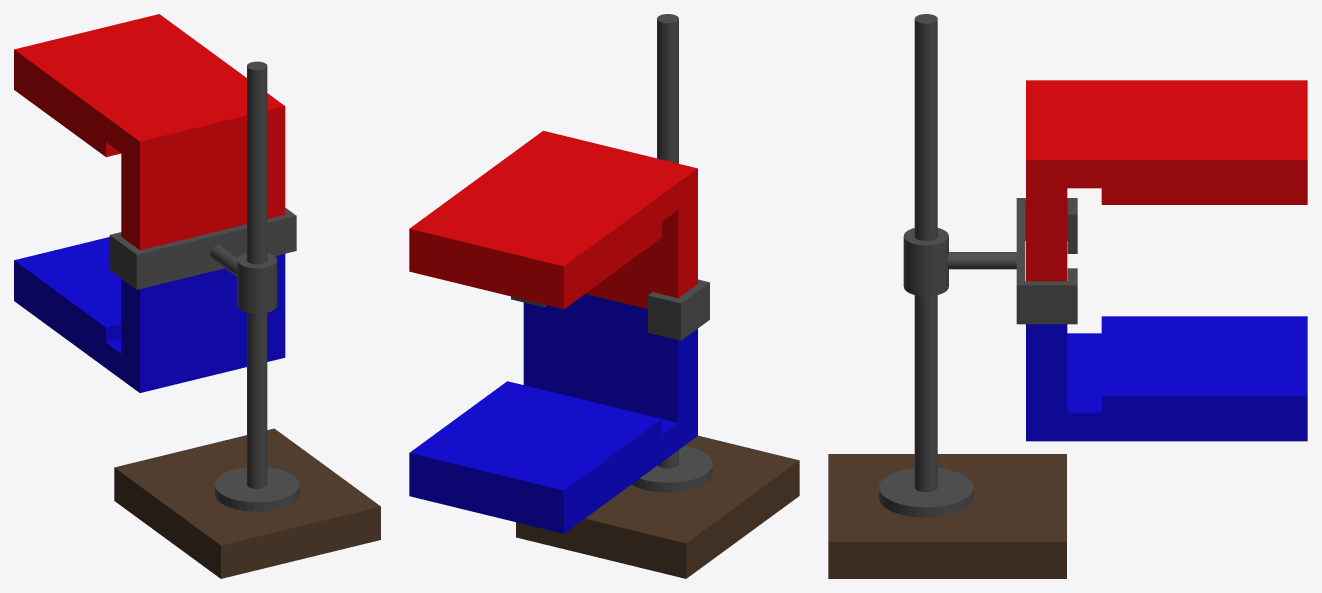
Rendered from magSet.glb.
3 renders of one model, left to right at view 1: azimuth 30°, elevation 25°; view 2: azimuth 150°, elevation 25°; view 3: azimuth 270°, elevation 25°, orthographic. The views are drawn at different scales.
Visible parts, largest first — view 1: Magnet, Base, Pole, Clamp; view 2: Magnet, Base, Pole, Clamp; view 3: Magnet, Base, Pole, Clamp.
Boxes of the visible parts, left/top/right/bottom form: Magnet: left=14, top=14, right=285, bottom=392; Base: left=114, top=428, right=380, bottom=578; Pole: left=215, top=61, right=299, bottom=511; Clamp: left=109, top=208, right=296, bottom=313; Magnet: left=409, top=130, right=697, bottom=533; Base: left=516, top=435, right=799, bottom=578; Pole: left=631, top=14, right=712, bottom=492; Clamp: left=511, top=279, right=709, bottom=340; Magnet: left=1026, top=80, right=1307, bottom=441; Base: left=828, top=454, right=1066, bottom=578; Pole: left=879, top=14, right=973, bottom=517; Clamp: left=903, top=198, right=1077, bottom=324.
Bounding box in the file's own units: 0.2 × 0.5512 × 0.4639.
